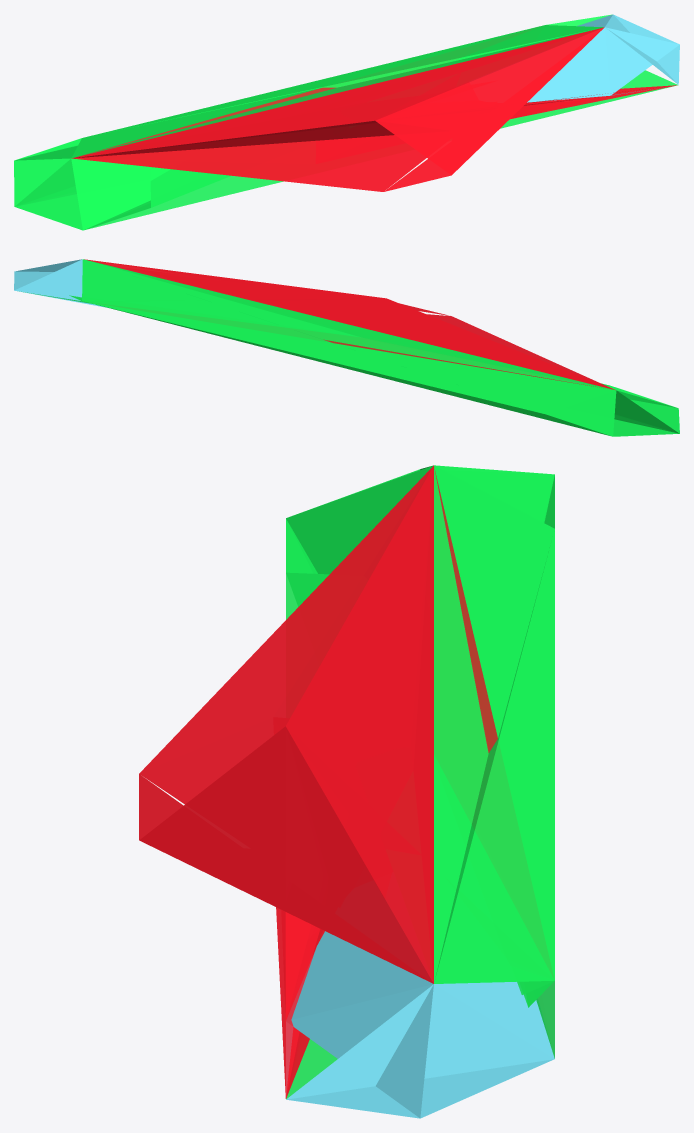
File: S.S._Dolphin_Guard_Satellite_lights.obj
3 views of the same model, one above another, from view 1: azimuth 30°, elevation 25°; view 2: azimuth 150°, elevation 25°; view 3: azimuth 270°, elevation 25° (orthographic). The views are drawn at different scales.
Parts seen in each view (by area): view 1: S.S._Dolphin_Guard_Satellite_lights; view 2: S.S._Dolphin_Guard_Satellite_lights; view 3: S.S._Dolphin_Guard_Satellite_lights.
Boxes of the visible parts, x1,y1,x2,y2 form: S.S._Dolphin_Guard_Satellite_lights: (14,14,679,230); S.S._Dolphin_Guard_Satellite_lights: (14,259,679,436); S.S._Dolphin_Guard_Satellite_lights: (139,465,554,1118).
Size of the model in its own units: 0.7762 by 0.0444 by 0.21.
